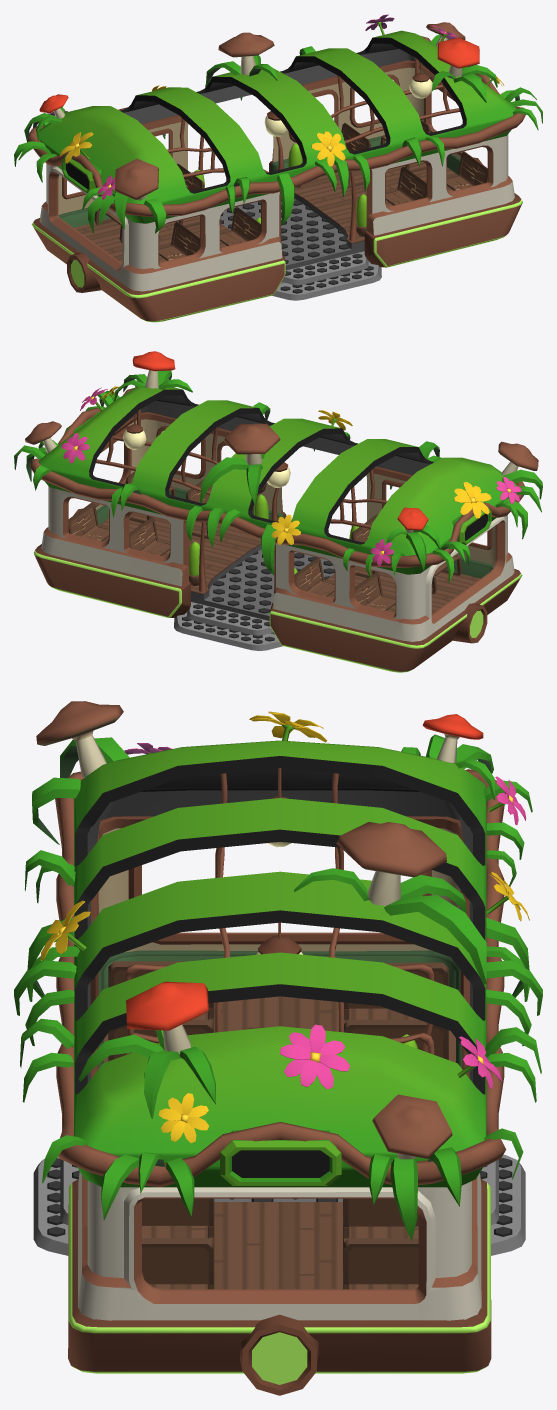
File: forest_tram.glb
3 renders of one model, top to bottom at view 1: azimuth 30°, elevation 25°; view 2: azimuth 150°, elevation 25°; view 3: azimuth 270°, elevation 25°, orthographic. The views are drawn at different scales.
Visible parts, largest first — view 1: forest_tram; view 2: forest_tram; view 3: forest_tram.
Boxes of the visible parts, x1=… form: forest_tram: x1=14, y1=14, x2=542, y2=322; forest_tram: x1=14, y1=351, x2=542, y2=672; forest_tram: x1=14, y1=701, x2=542, y2=1395.
Size of what is drawn, in the model's own units: 17.08 by 7.03 by 8.82.
Materials: 1 (1 with a texture image).
